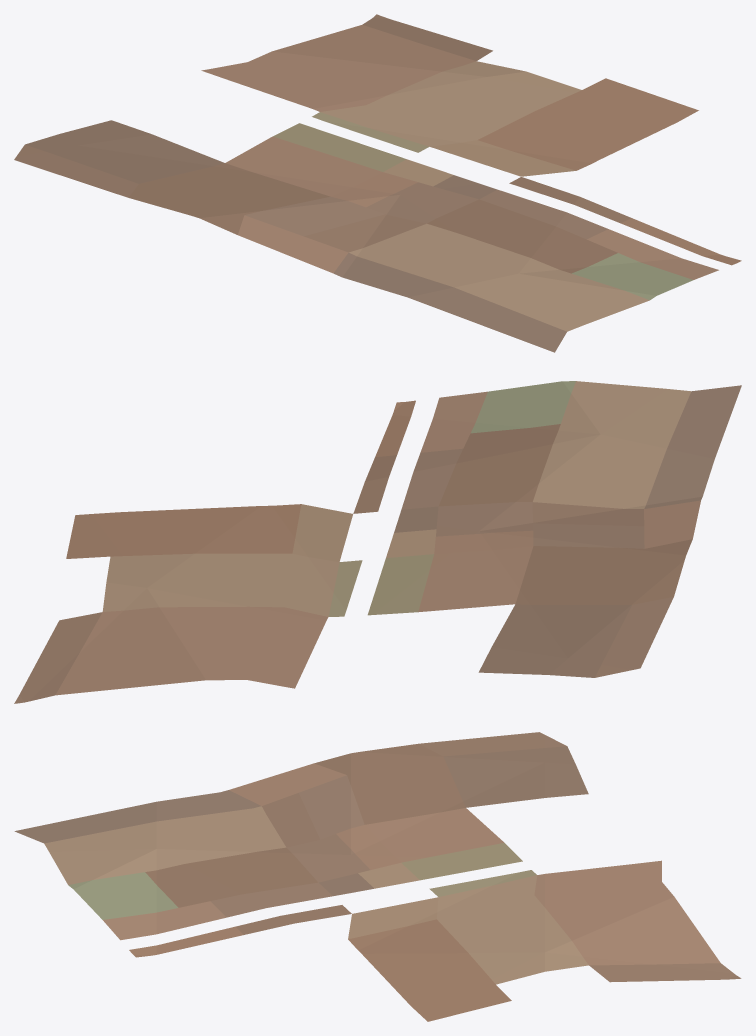
The model's file is farm_-32_-28_soil.glb.
The picture shows the model from 3 angles, top to bottom: view 1: azimuth 30°, elevation 25°; view 2: azimuth 150°, elevation 25°; view 3: azimuth 270°, elevation 25°; orthographic projection. The views are drawn at different scales.
Visible parts, largest first — view 1: geometry_0; view 2: geometry_0; view 3: geometry_0.
Boxes of the visible parts, box(x1,y1,x2,y2) form: geometry_0: box(14, 14, 741, 352); geometry_0: box(14, 381, 741, 703); geometry_0: box(14, 732, 741, 1021).
Bounding box in the file's own units: 241 × 26.7 × 300.
